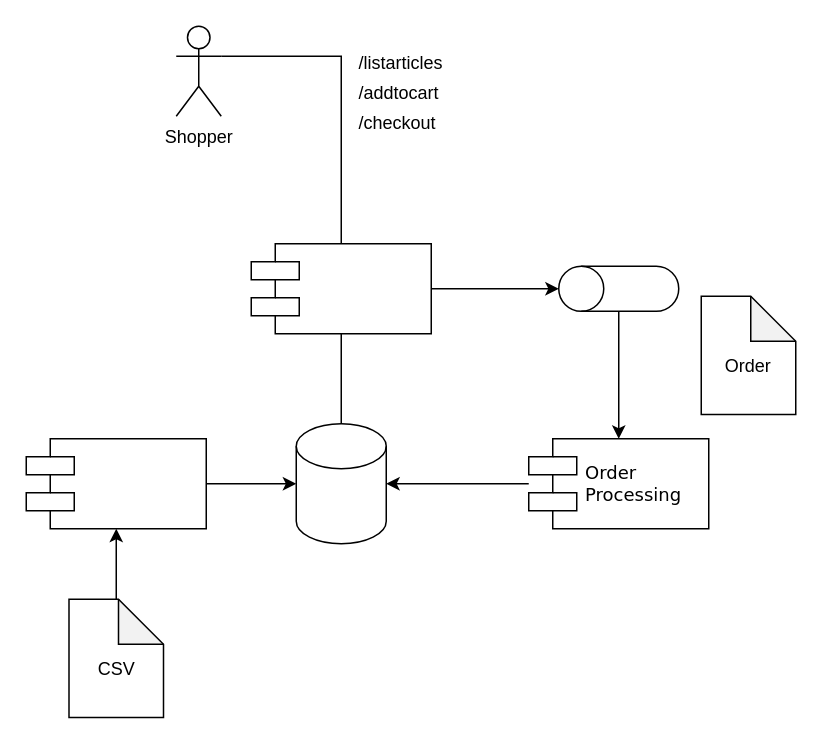
Image size: 822x744. Some labels were removed from this diagram. Each missing label, with the centre of its shape:
"Batch Article Import" belongs at (x=115, y=483).
"Shop" belongs at (x=340, y=288).
